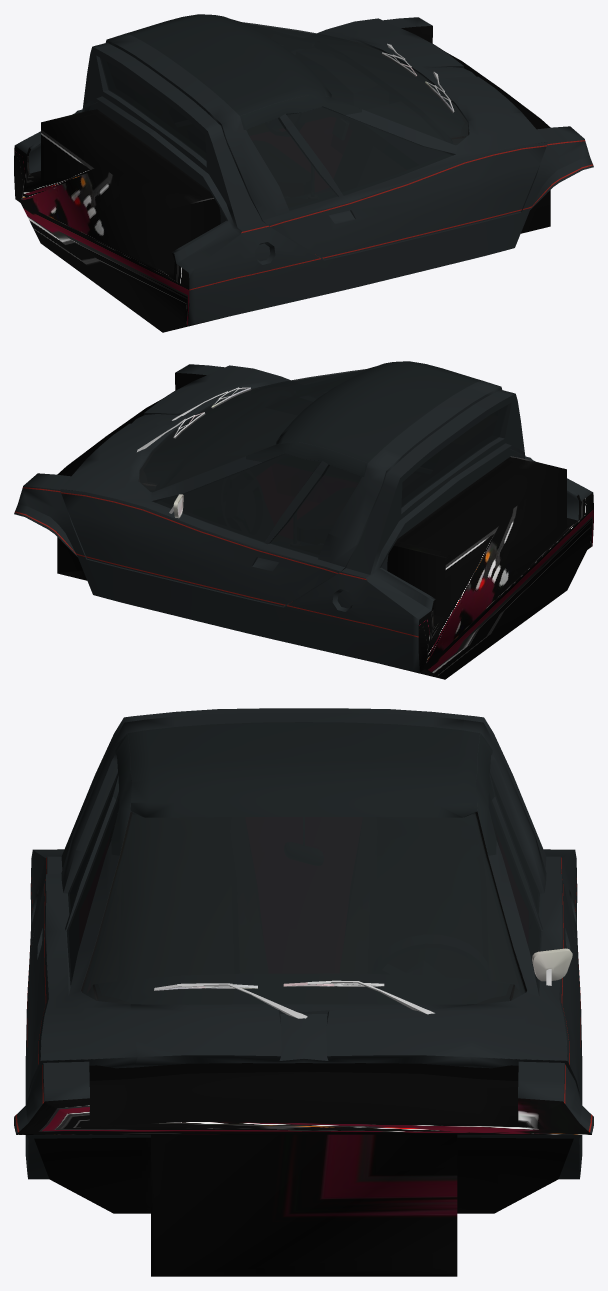
File: driving-set.glb
3 views of the same model, one above another, from view 1: azimuth 30°, elevation 25°; view 2: azimuth 150°, elevation 25°; view 3: azimuth 270°, elevation 25° (orthographic). The views are drawn at different scales.
Visible parts, largest first — view 1: Cabin / Body, Cabin / Roof lid, Cabin / Tinted windows, Cabin / Body glass; view 2: Cabin / Body, Cabin / Roof lid, Cabin / Tinted windows, Cabin / Body glass; view 3: Cabin / Body, Cabin / Roof lid, Cabin / Tinted windows.
Boxes of the visible parts, x1=… form: Cabin / Body: x1=14, y1=17, x2=593, y2=332; Cabin / Roof lid: x1=105, y1=14, x2=547, y2=259; Cabin / Tinted windows: x1=238, y1=21, x2=468, y2=210; Cabin / Body glass: x1=100, y1=58, x2=206, y2=160; Cabin / Body: x1=14, y1=364, x2=593, y2=679; Cabin / Roof lid: x1=60, y1=361, x2=502, y2=606; Cabin / Tinted windows: x1=139, y1=368, x2=369, y2=557; Cabin / Body glass: x1=401, y1=405, x2=507, y2=507; Cabin / Body: x1=14, y1=708, x2=593, y2=1276; Cabin / Roof lid: x1=26, y1=712, x2=581, y2=1101; Cabin / Tinted windows: x1=66, y1=772, x2=541, y2=1004.
Size of the model in its own units: 2.45 by 1.2 by 1.98.
7 materials, 2 textured.
